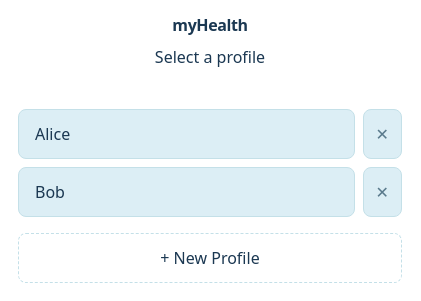
Test: ProfilesPage — unlock flow › shows password form after selecting a profile
Click the button "Alice" at (53, 134), box [18, 109, 355, 159]
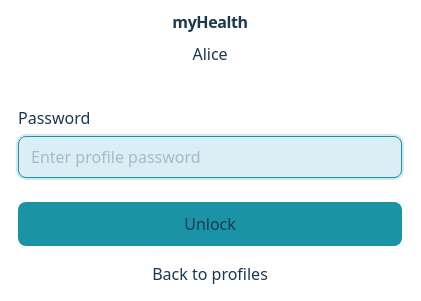
Now the password field labelled "Password" is shown, box [18, 136, 402, 178]
Now the button "Unlock" is shown, box [18, 202, 402, 246]
